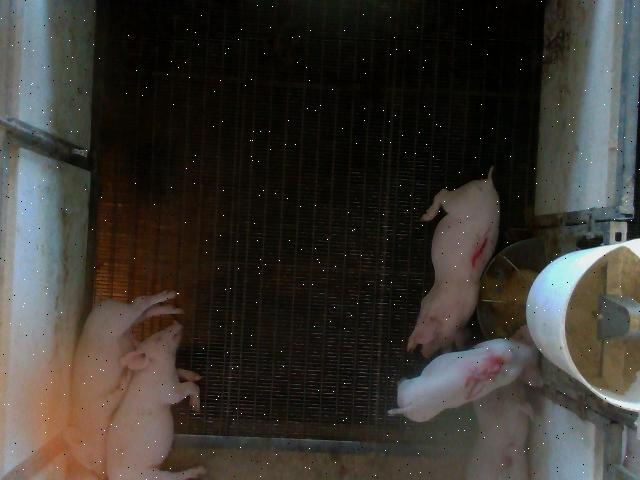pig-1: (408, 166, 500, 357)
pig-3: (466, 379, 532, 478)
pig-5: (390, 326, 539, 422)
